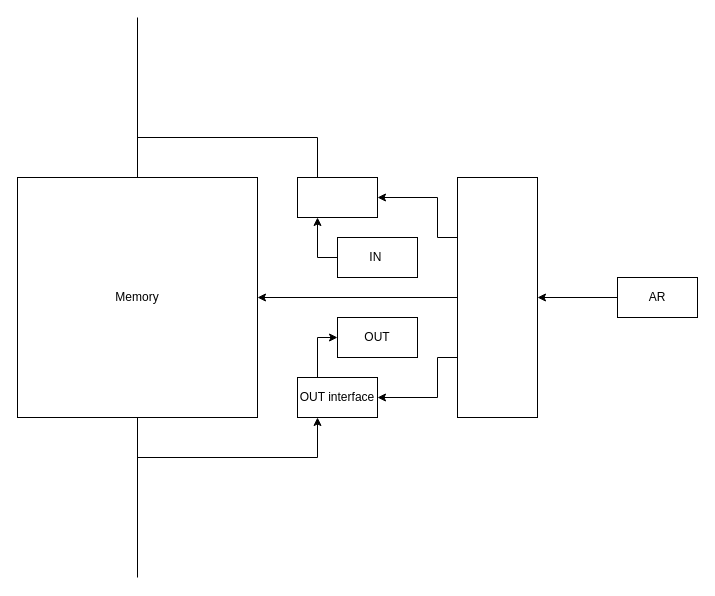
Some shapes in this 715 by 596 pixel diagram are drawn without their labels. Here are the shapes that lost their labels. From the top down, the box of each, then its label:
(296, 176, 378, 218): IN interface
(456, 176, 538, 418): AR decoder
